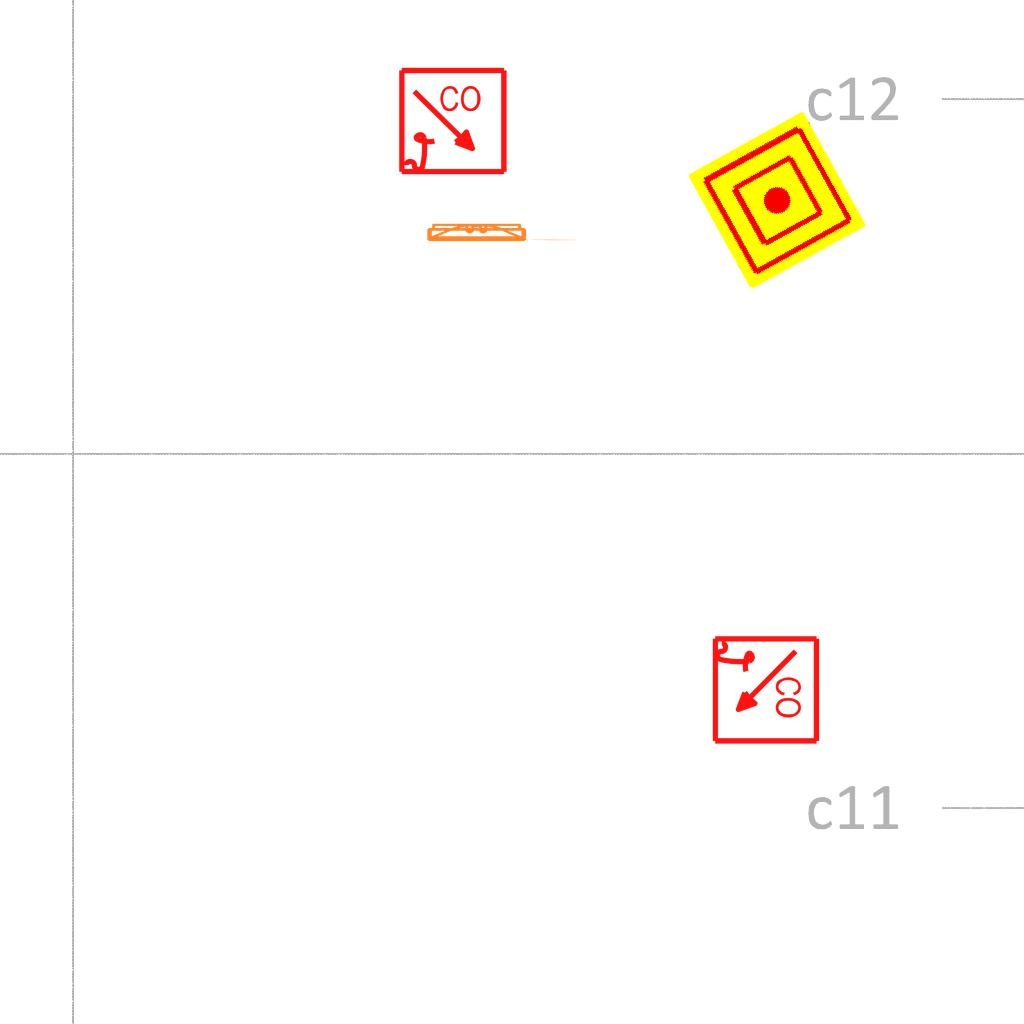NAM-Nichtautomatischer_Melder: (687, 110, 867, 290)
ROA_Rauchmelder_optisch_mit_Signalgeber_(Sockelsirene): (397, 66, 510, 179), (708, 634, 821, 747)
Sicherheitsleuchte_Wandeinbau: (422, 219, 581, 244)
